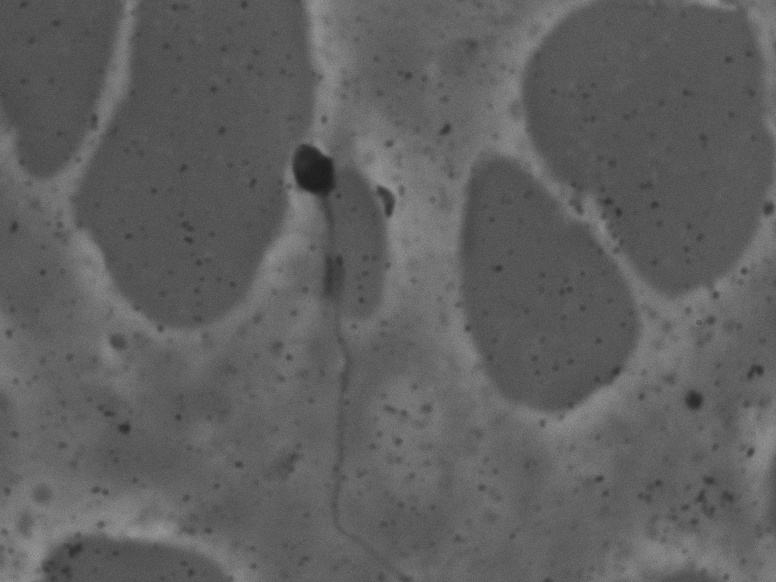Normal: (286, 129, 411, 571)
